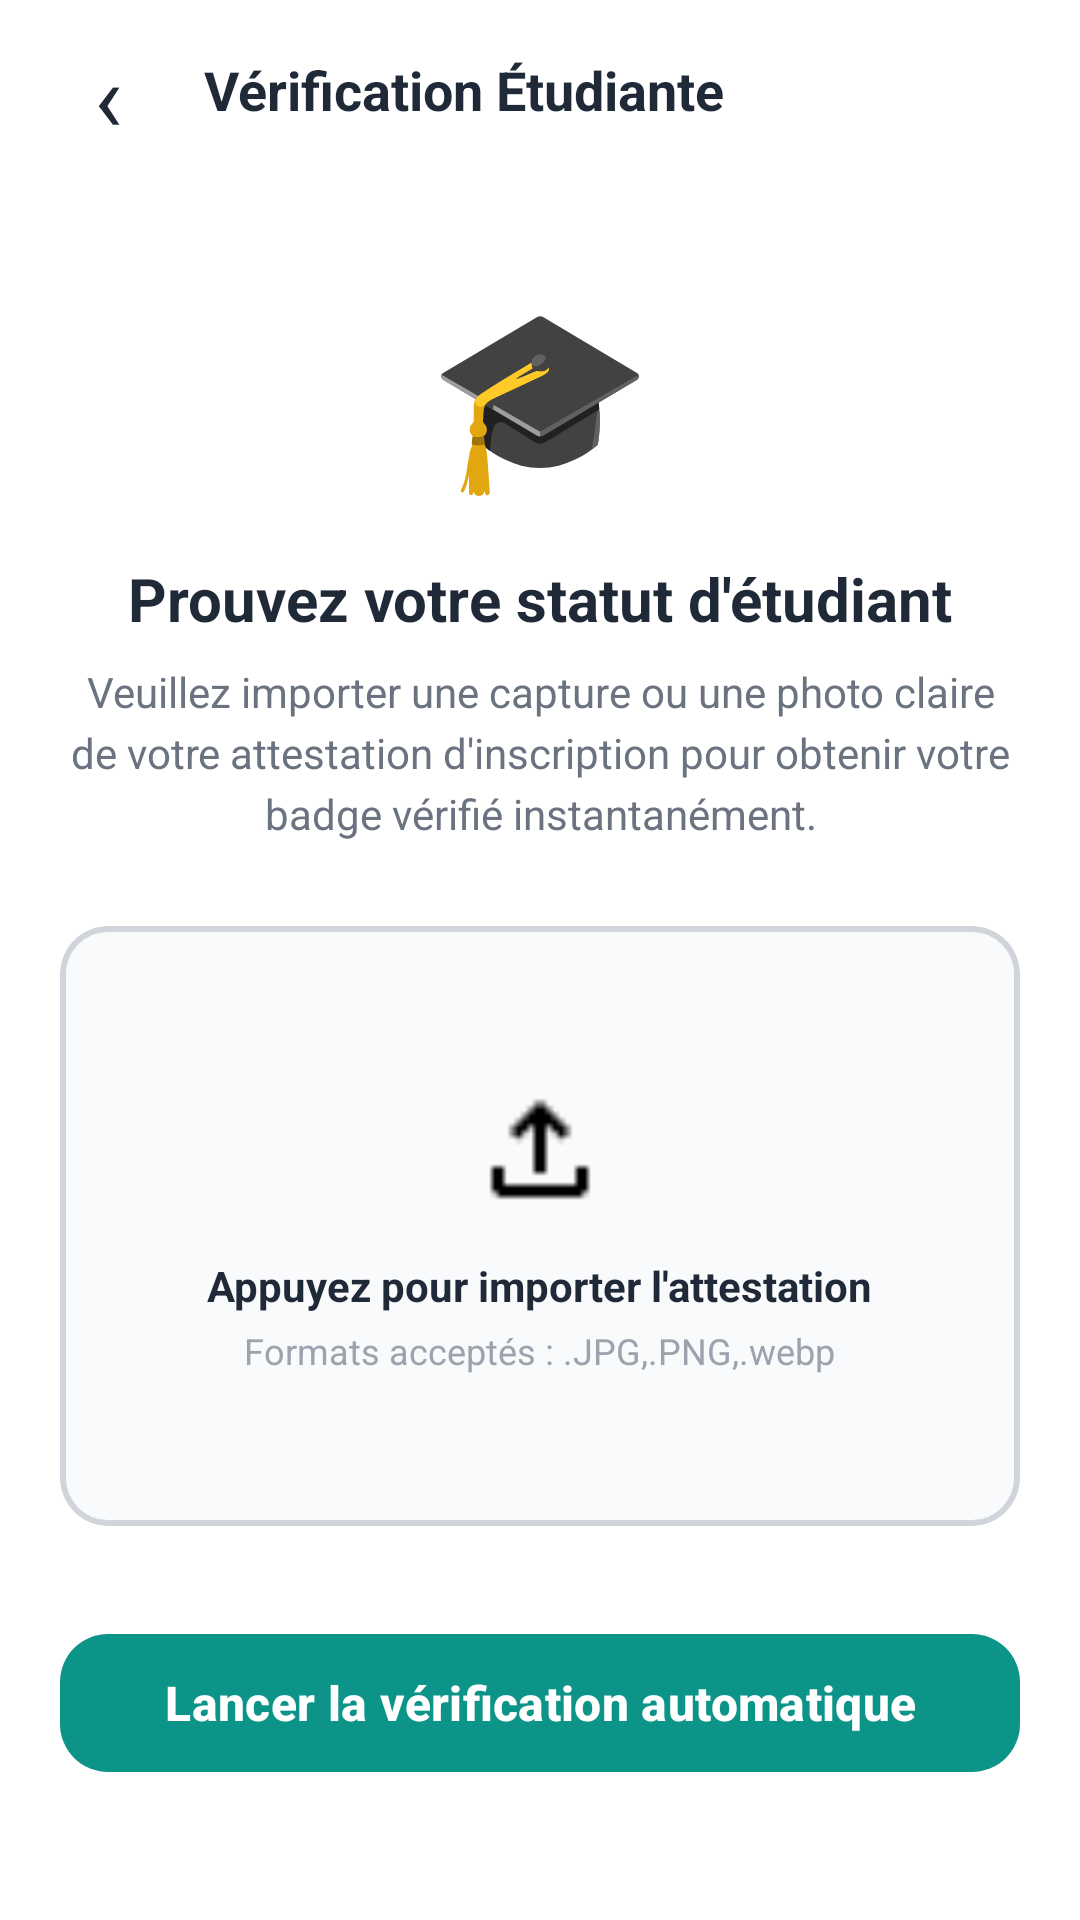

Screen size 1080 × 1920. Icon name, then its box in pixels as (x1=x1, y1=y1, x2=x2, y2=y2):
upload: (x1=490, y1=1099, x2=590, y2=1199)
